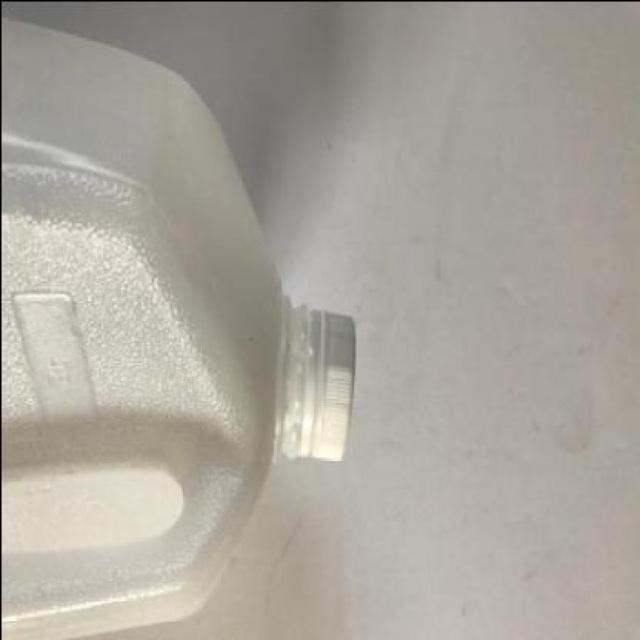PLASTIC: (1, 19, 356, 638), (288, 305, 355, 463)
